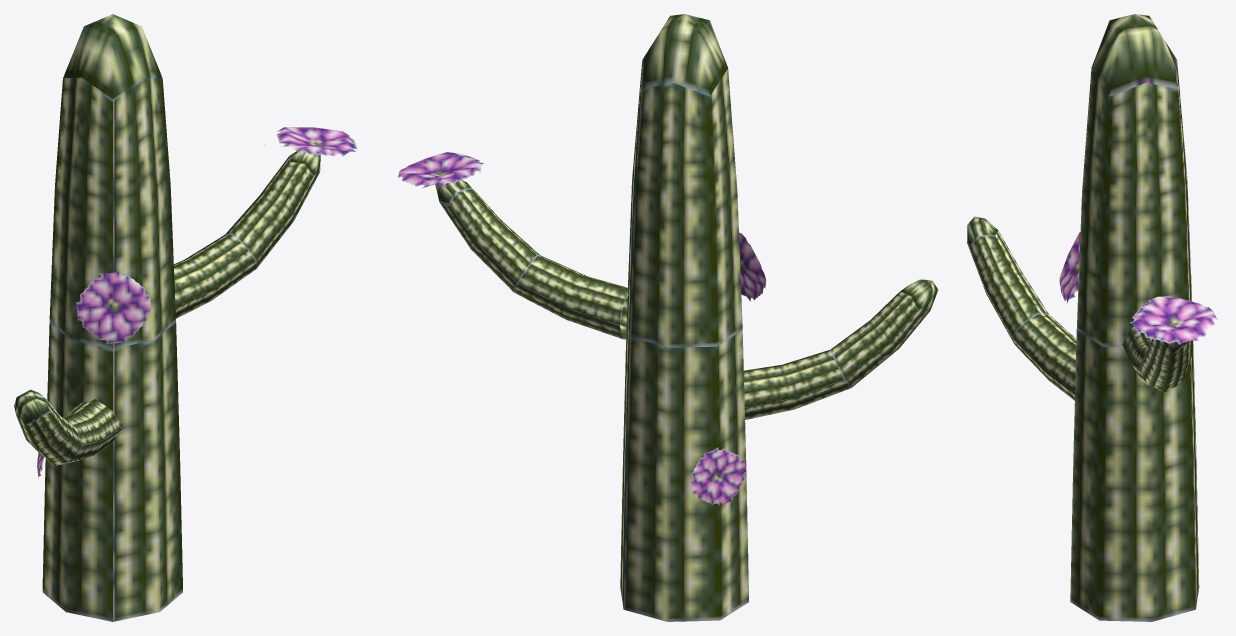
The model's file is cactus_Flowers_Small_hiPoly.fbx.
3 renders of one model, left to right at view 1: azimuth 30°, elevation 25°; view 2: azimuth 150°, elevation 25°; view 3: azimuth 270°, elevation 25°, orthographic.
Parts seen in each view (by area): view 1: cactus_Flowers_Small_hiPoly; view 2: cactus_Flowers_Small_hiPoly; view 3: cactus_Flowers_Small_hiPoly.
Part boxes in pixels (bbox=[...]): cactus_Flowers_Small_hiPoly: bbox=[14, 14, 357, 621]; cactus_Flowers_Small_hiPoly: bbox=[398, 14, 938, 621]; cactus_Flowers_Small_hiPoly: bbox=[967, 14, 1217, 621].
Bounding box in the file's own units: 1.68 × 2.14 × 0.8507.
